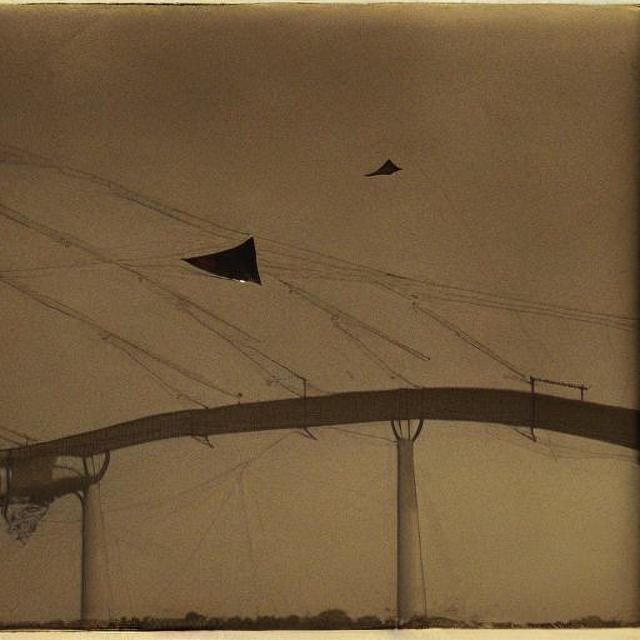floating object: (176, 234, 262, 285), (359, 156, 404, 180)
